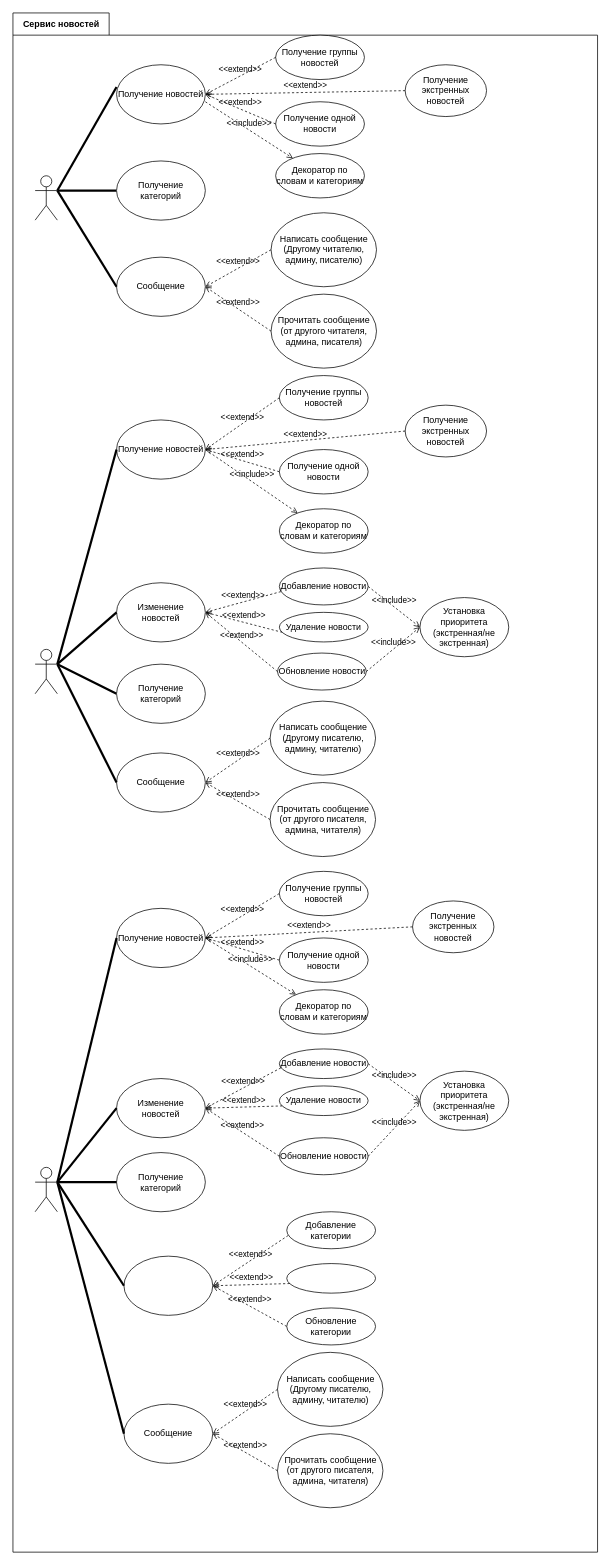
Some shapes in this 611 by 1565 pixel diagram are drawn without their labels. Here are the shapes that lost their labels. From the top down, the box of each, then its label:
(34, 175, 57, 220): Читатель
(34, 649, 57, 694): Автор
(34, 1167, 57, 1212): Админ
(123, 1255, 213, 1315): Изменение категорий
(286, 1263, 376, 1293): Удаление категории
